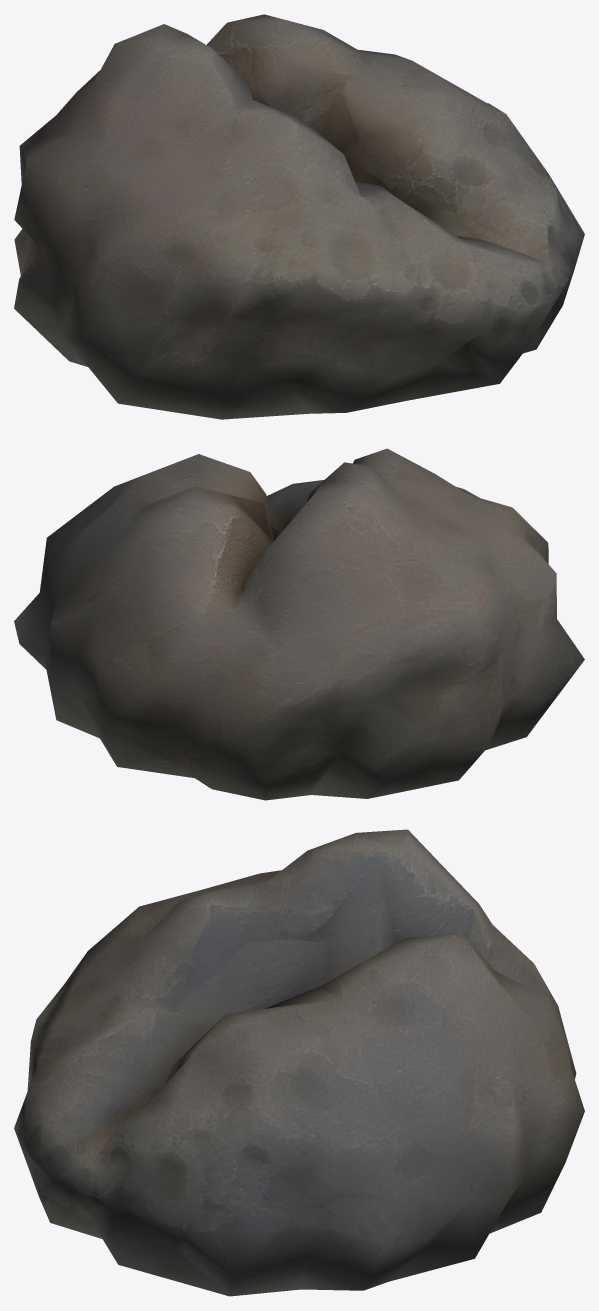
File: SM_Asteroid_03.fbx
3 renders of one model, top to bottom at view 1: azimuth 30°, elevation 25°; view 2: azimuth 150°, elevation 25°; view 3: azimuth 270°, elevation 25°, orthographic. The views are drawn at different scales.
Visible parts, largest first — view 1: SM_Asteroid_03; view 2: SM_Asteroid_03; view 3: SM_Asteroid_03.
Boxes of the visible parts, <box> form: SM_Asteroid_03: <box>14,14,584,419</box>; SM_Asteroid_03: <box>14,448,584,800</box>; SM_Asteroid_03: <box>14,829,584,1296</box>.
Size of the model in its own units: 91.37 by 98.75 by 57.29.
1 material, 1 textured.
